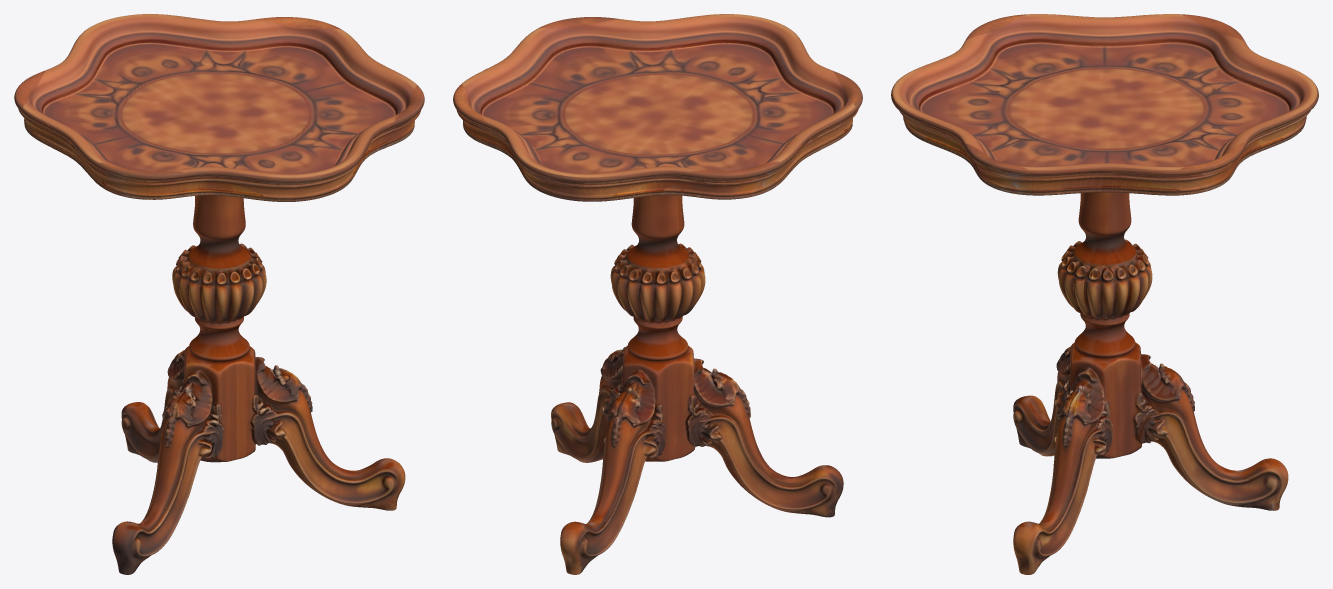
The model's file is Meshy_AI_Pedestal_Table_0301170817_texture.glb.
3 renders of one model, left to right at view 1: azimuth 30°, elevation 25°; view 2: azimuth 150°, elevation 25°; view 3: azimuth 270°, elevation 25°, orthographic.
Bounding box in the file's own units: 1.54 × 1.9 × 1.77.
1 material, 1 textured.
